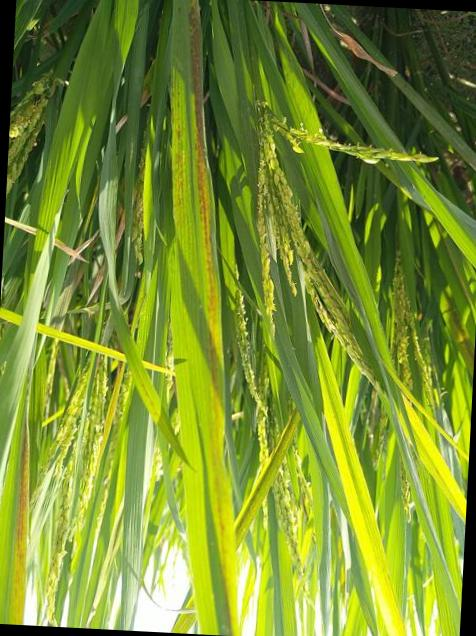Leaf Streak: (189, 0, 239, 636), (236, 407, 300, 542), (8, 399, 30, 625), (166, 71, 186, 219), (448, 309, 475, 373), (170, 586, 197, 634)
